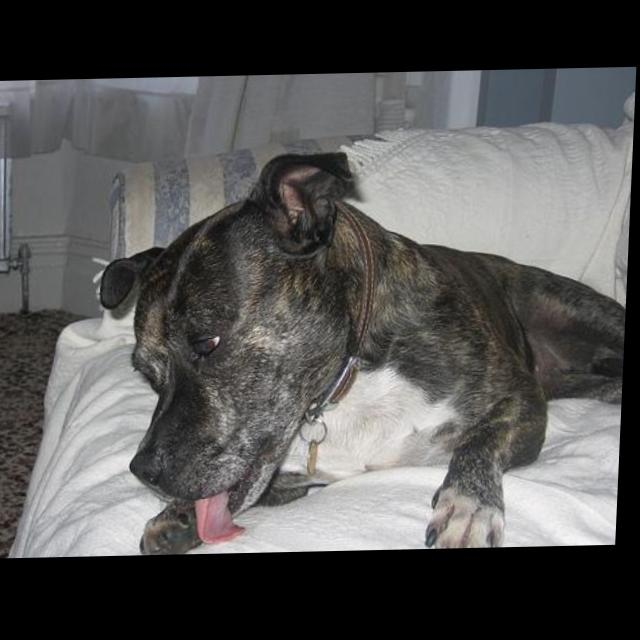staffford: (89, 148, 635, 559)
